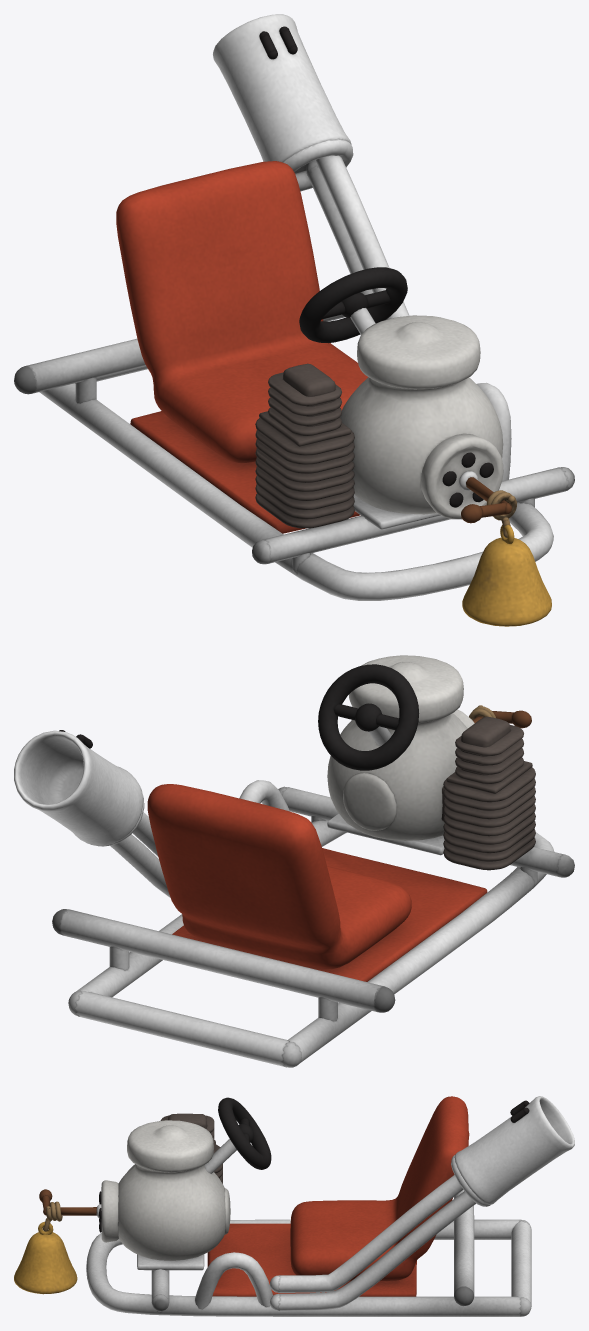
3 renders of one model, top to bottom at view 1: azimuth 30°, elevation 25°; view 2: azimuth 150°, elevation 25°; view 3: azimuth 270°, elevation 25°, orthographic. The views are drawn at different scales.
Parts seen in each view (by area): view 1: body, bell, steering_wheel; view 2: body, steering_wheel; view 3: body, bell, steering_wheel.
Boxes of the visible parts, box(x1,y1,x2,y2) form: body: box(14, 14, 574, 600); bell: box(462, 517, 551, 626); steering_wheel: box(299, 267, 407, 343); body: box(14, 655, 574, 1067); steering_wheel: box(318, 664, 419, 770); body: box(39, 1096, 574, 1316); bell: box(14, 1218, 77, 1294); steering_wheel: box(218, 1097, 271, 1169).
Bounding box in the file's own units: 0.8799 × 0.717 × 1.66.
1 material, 1 textured.
